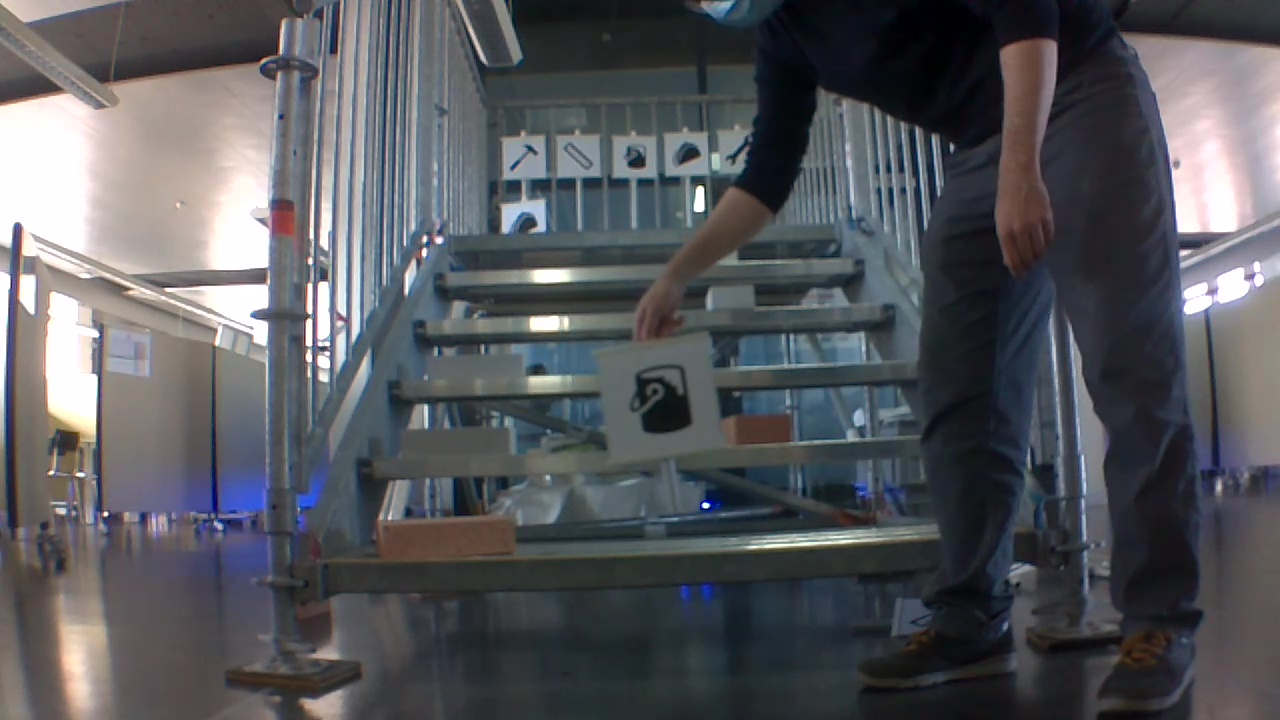brick: (379, 515, 513, 562), (402, 426, 515, 456), (428, 353, 519, 380), (722, 414, 793, 443), (705, 286, 752, 308)
bucket: (619, 361, 697, 440), (616, 141, 649, 173)
edge: (318, 531, 1035, 590)
hammer: (504, 140, 540, 176)
ruler: (558, 139, 595, 175)
taco: (670, 139, 705, 171), (504, 208, 537, 231)
